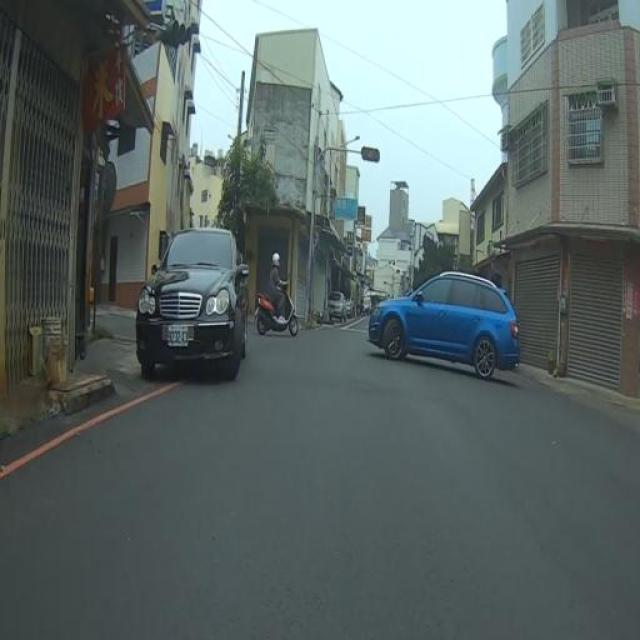illegalparking: (137, 219, 246, 397), (320, 271, 362, 325)
